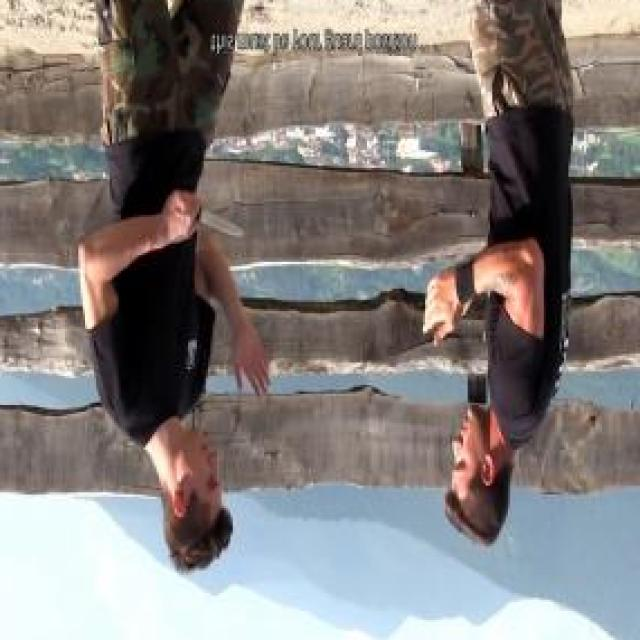knife: (163, 186, 250, 246)
